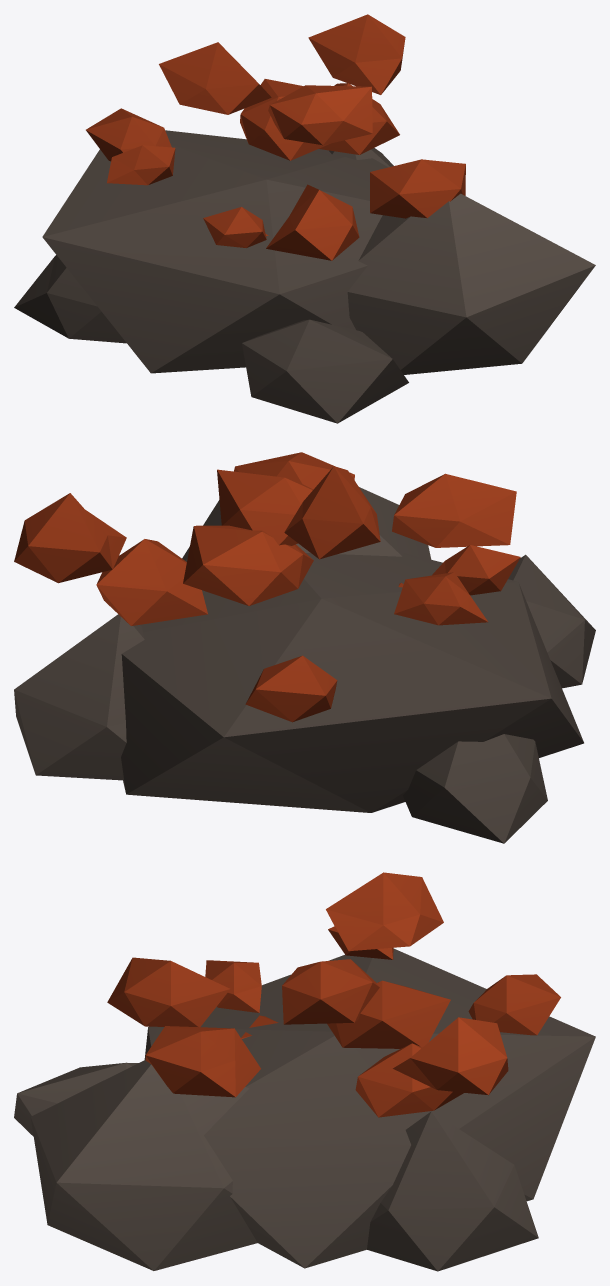
Rendered from ore2.glb.
3 views of the same model, one above another, from view 1: azimuth 30°, elevation 25°; view 2: azimuth 150°, elevation 25°; view 3: azimuth 270°, elevation 25° (orthographic). The views are drawn at different scales.
Visible parts, largest first — view 1: ore2; view 2: ore2; view 3: ore2.
Boxes of the visible parts, x1,y1,x2,y2 form: ore2: (14, 14, 595, 423); ore2: (14, 452, 595, 843); ore2: (14, 872, 595, 1271).
Bounding box in the file's own units: 0.6659 × 0.3777 × 0.734.
